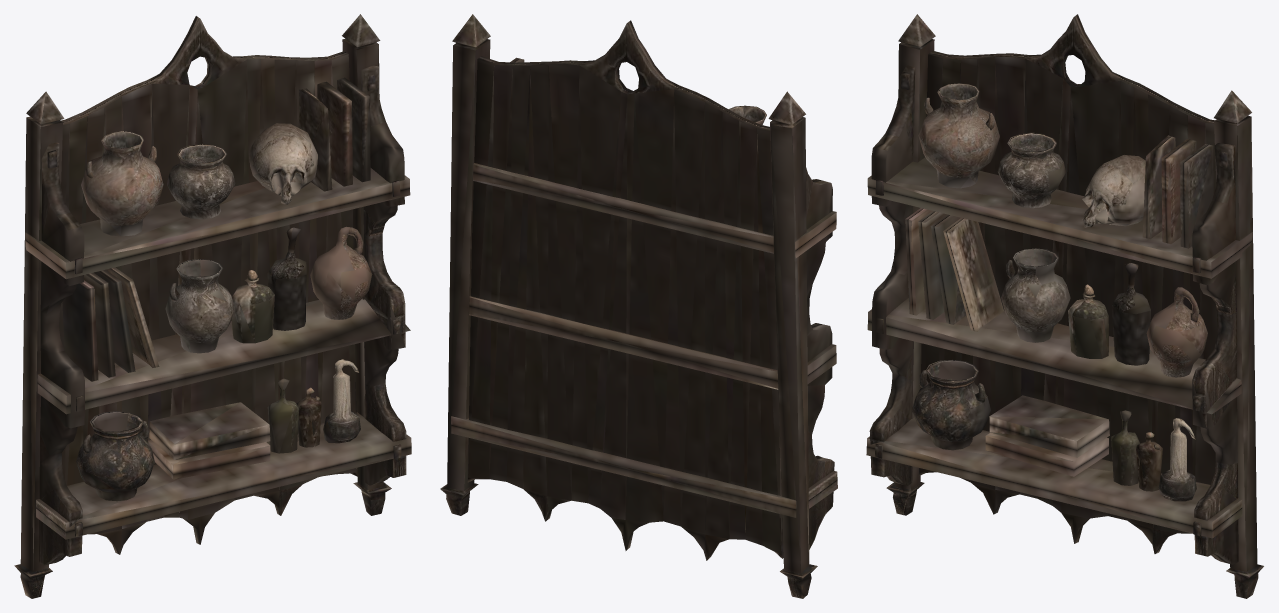
File: d_shelves.glb
The picture shows the model from 3 angles, left to right: view 1: azimuth 30°, elevation 25°; view 2: azimuth 150°, elevation 25°; view 3: azimuth 330°, elevation 25°; orthographic projection.
Visible parts, largest first — view 1: d_shelves; view 2: d_shelves; view 3: d_shelves.
Boxes of the visible parts, bbox=[...] form: d_shelves: bbox=[14, 14, 411, 598]; d_shelves: bbox=[440, 14, 837, 598]; d_shelves: bbox=[866, 14, 1263, 598].
Size of the model in its own units: 1.39 by 1.95 by 0.3018.
1 material, 1 textured.
